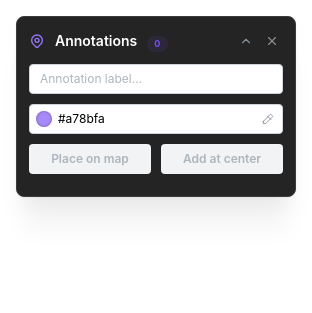
AnnotatePanel › adds at the centre of the Cesium view and keeps that point’s height
Step 1. Type "Window" into the field with placeholder "Annotation label…" → (156, 79), box [29,64,283,94]
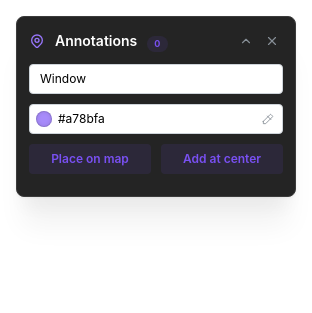
Step 2. Click the button "Add at center" → (222, 159), box [161,144,283,174]
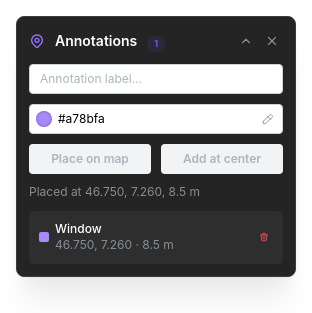
Check: the text with test id "annotate-status" reads "Placed at 46.750, 7.260, 8.5 m", box [29,184,200,199]
Check: the text "46.750, 7.260 · 8.5 m" is shown, box [55,237,174,254]
